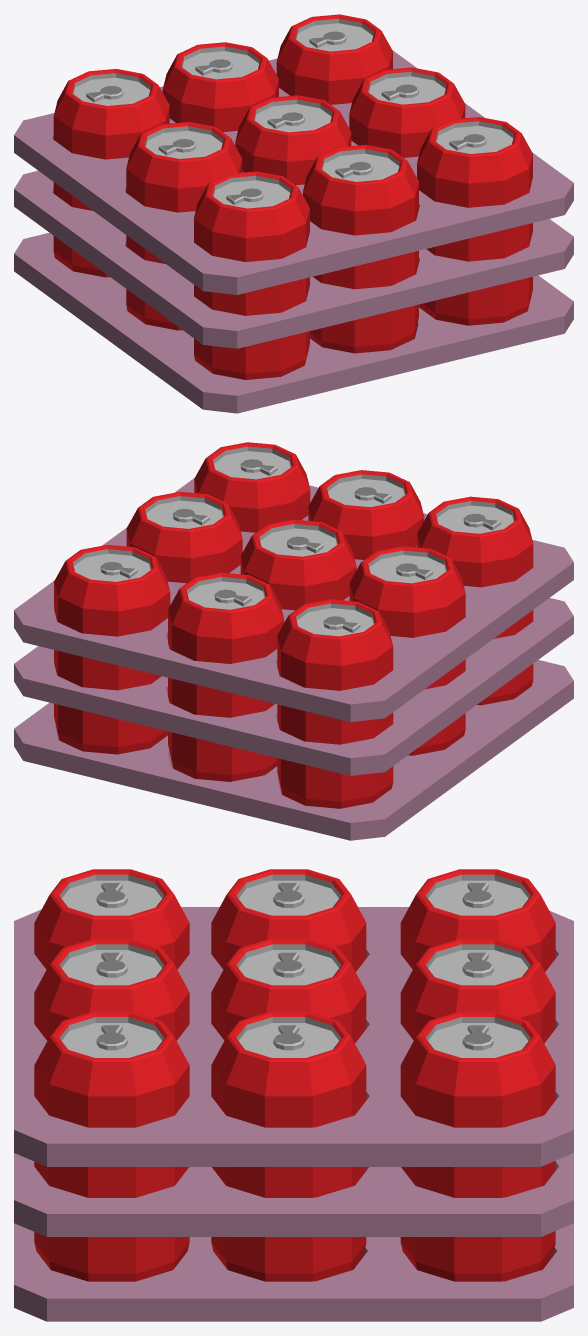
The model's file is cerveza.glb.
The picture shows the model from 3 angles, top to bottom: view 1: azimuth 30°, elevation 25°; view 2: azimuth 150°, elevation 25°; view 3: azimuth 270°, elevation 25°; orthographic projection. The views are drawn at different scales.
Visible parts, largest first — view 1: Cylinder.005; view 2: Cylinder.005; view 3: Cylinder.005.
Part boxes in pixels (x1=…): Cylinder.005: x1=14, y1=14, x2=573, y2=413; Cylinder.005: x1=14, y1=442, x2=573, y2=840; Cylinder.005: x1=14, y1=869, x2=573, y2=1321.
Bounding box in the file's own units: 0.0985 × 0.0464 × 0.0985.
